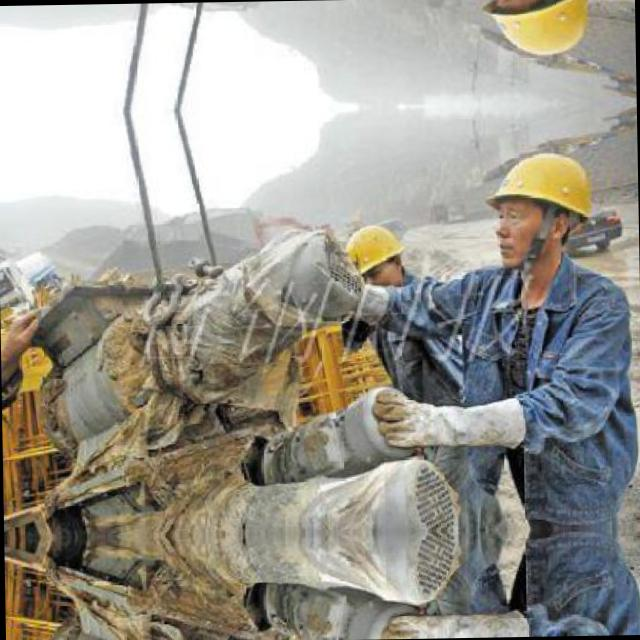helmet: (479, 136, 606, 274), (475, 0, 602, 69), (337, 215, 415, 298)
